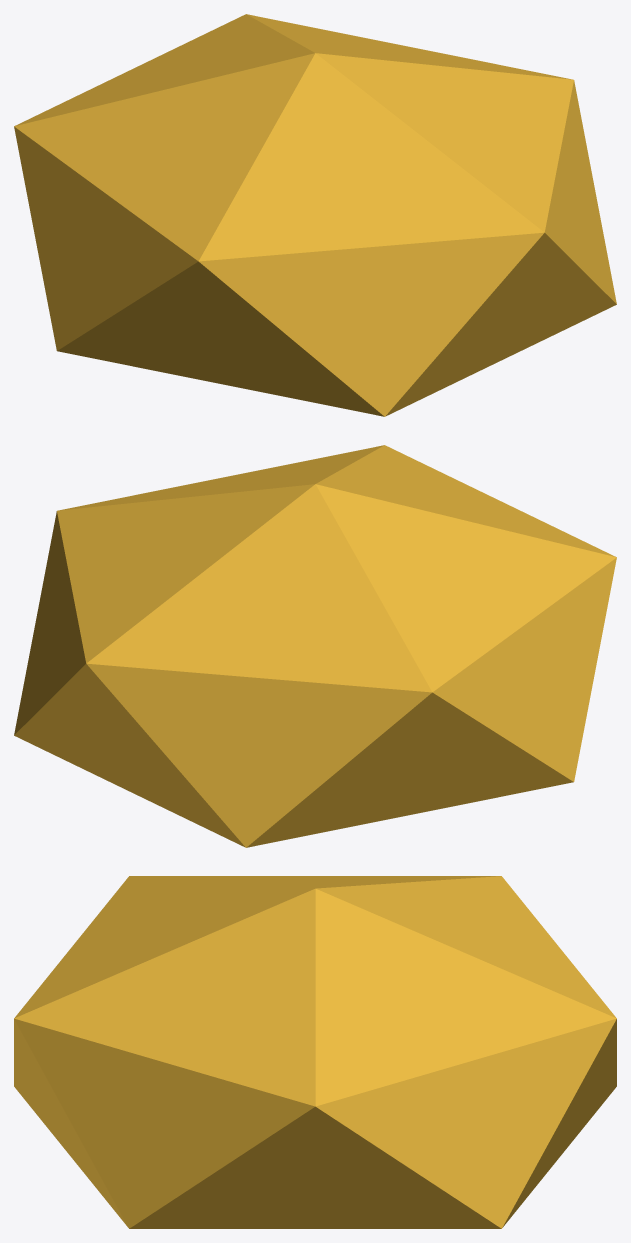
File: pepita.glb
3 views of the same model, one above another, from view 1: azimuth 30°, elevation 25°; view 2: azimuth 150°, elevation 25°; view 3: azimuth 270°, elevation 25° (orthographic).
Parts seen in each view (by area): view 1: pepita; view 2: pepita; view 3: pepita.
Boxes of the visible parts, x1=… form: pepita: x1=14, y1=14, x2=616, y2=416; pepita: x1=14, y1=445, x2=616, y2=847; pepita: x1=14, y1=876, x2=616, y2=1228.
Size of the model in its own units: 1 by 0.6 by 1.
